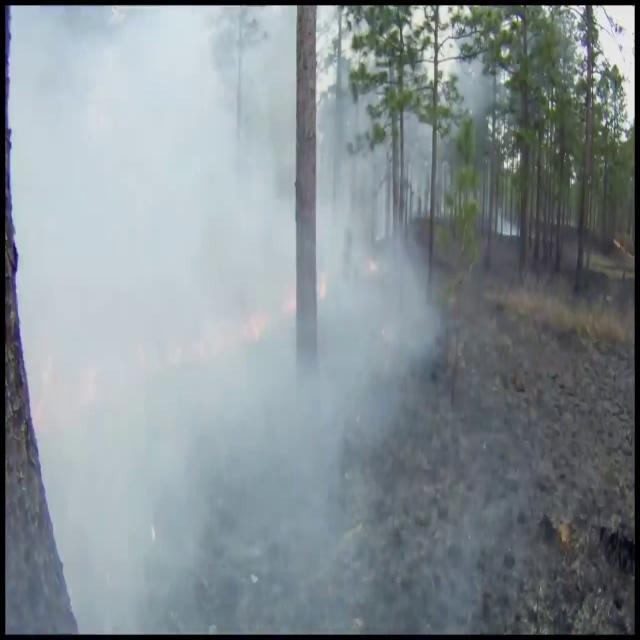Smoke: (24, 11, 438, 636)
